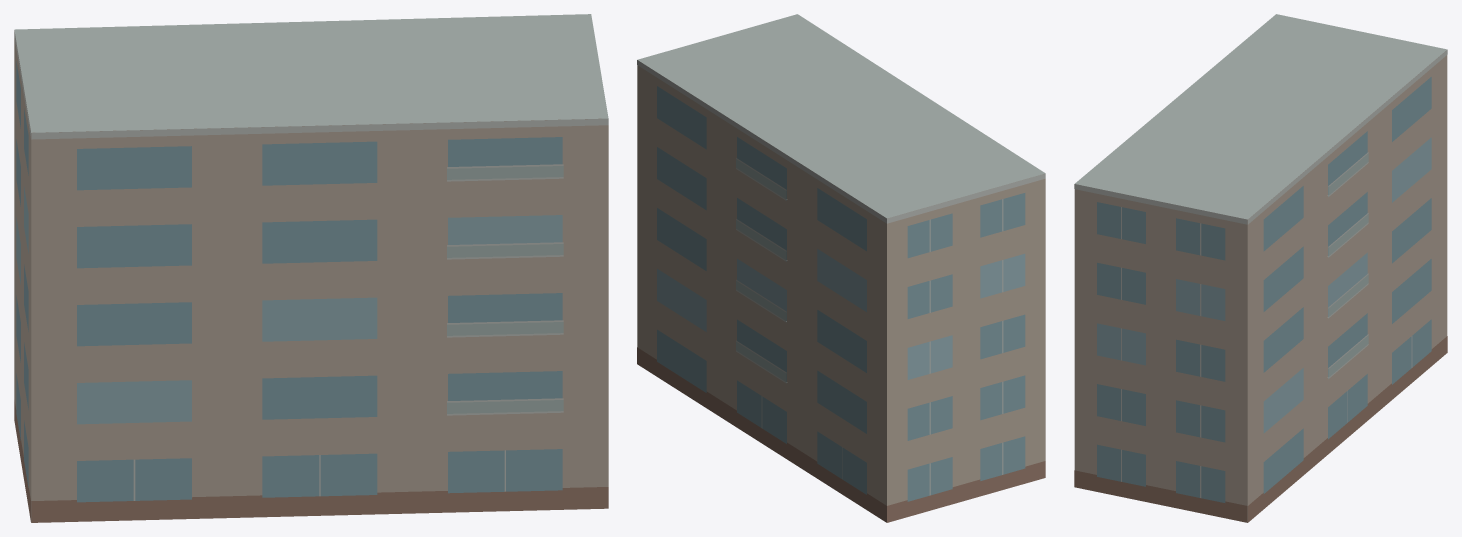
File: survey-upis-32885862.glb
The picture shows the model from 3 angles, left to right: view 1: azimuth 30°, elevation 25°; view 2: azimuth 150°, elevation 25°; view 3: azimuth 270°, elevation 25°; orthographic projection. The views are drawn at different scales.
Visible parts, largest first — view 1: survey-upis-32885862.tmp; view 2: survey-upis-32885862.tmp; view 3: survey-upis-32885862.tmp.
Boxes of the visible parts, <box> form: survey-upis-32885862.tmp: <box>14,14,608,522</box>; survey-upis-32885862.tmp: <box>637,14,1045,522</box>; survey-upis-32885862.tmp: <box>1074,14,1447,522</box>.
Size of the model in its own units: 20.65 by 14.2 by 15.83.
